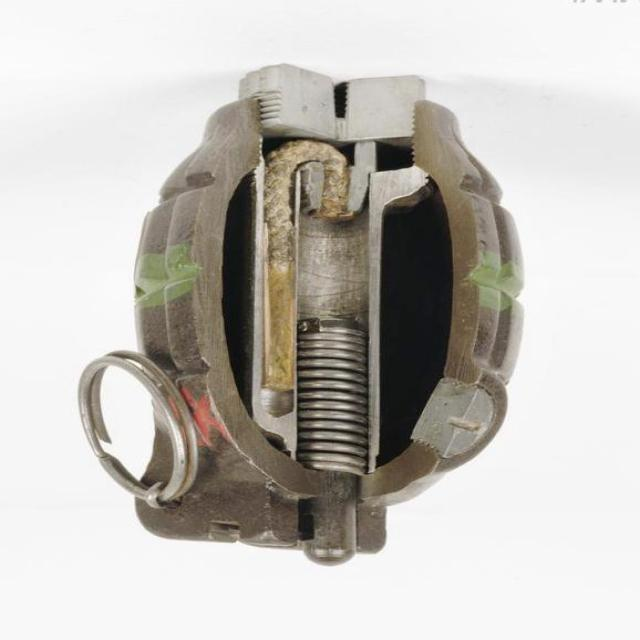grenade: (77, 65, 526, 567)
